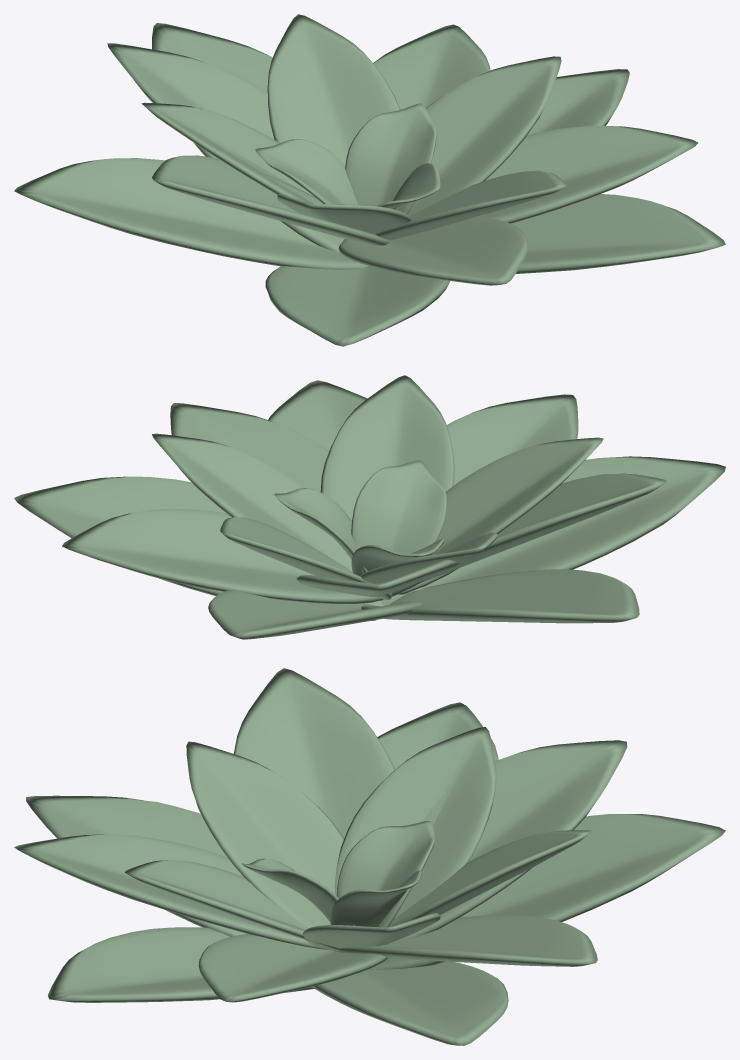
File: grass3.fbx
3 views of the same model, one above another, from view 1: azimuth 30°, elevation 25°; view 2: azimuth 150°, elevation 25°; view 3: azimuth 270°, elevation 25° (orthographic). The views are drawn at different scales.
Visible parts, largest first — view 1: group22; view 2: group22; view 3: group22.
Part boxes in pixels (left/top/right/bottom): group22: left=14, top=14, right=725, bottom=346; group22: left=14, top=375, right=725, bottom=639; group22: left=14, top=668, right=725, bottom=1045.
Bounding box in the file's own units: 35.4 × 9.33 × 34.09.
